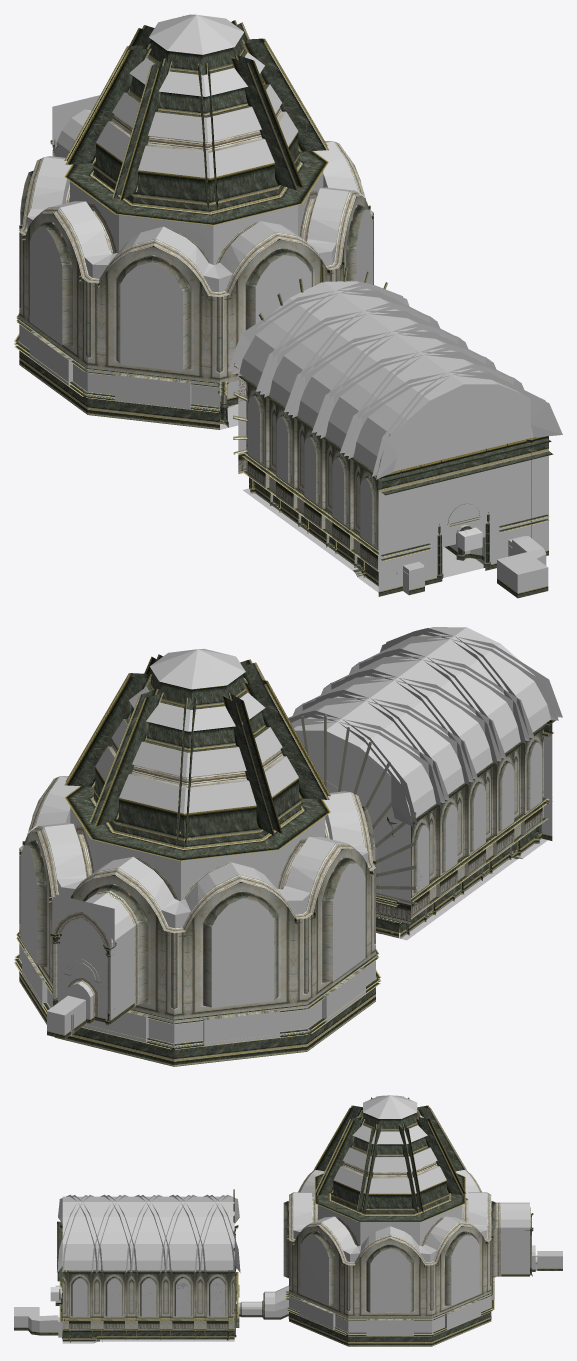
File: estructuraAux2.gltf
3 renders of one model, top to bottom at view 1: azimuth 30°, elevation 25°; view 2: azimuth 150°, elevation 25°; view 3: azimuth 270°, elevation 25°, orthographic. The views are drawn at different scales.
Visible parts, largest first — view 1: n3b6_n3b6.001, n9b1_n9b1.001, n5b20_n5b20.001, n7b18_n7b18.001, n23b19_n23b19.001, n6b9_n6b9.001, n24b22_n24b22.001, n8b7_n8b7.001, n10b23_n10b23.001; view 2: n3b6_n3b6.001, n9b1_n9b1.001, n5b20_n5b20.001, n7b18_n7b18.001, n23b19_n23b19.001, n6b9_n6b9.001, n24b22_n24b22.001, n8b7_n8b7.001, n10b23_n10b23.001; view 3: n3b6_n3b6.001, n9b1_n9b1.001, n5b20_n5b20.001, n7b18_n7b18.001, n23b19_n23b19.001, n6b9_n6b9.001, n24b22_n24b22.001, n8b7_n8b7.001, n10b23_n10b23.001.
Part boxes in pixels (<box>): n3b6_n3b6.001: <box>19,43,562,592</box>; n9b1_n9b1.001: <box>14,20,553,598</box>; n5b20_n5b20.001: <box>19,155,378,570</box>; n7b18_n7b18.001: <box>29,209,372,371</box>; n23b19_n23b19.001: <box>96,14,297,178</box>; n6b9_n6b9.001: <box>19,107,531,537</box>; n24b22_n24b22.001: <box>248,396,372,544</box>; n8b7_n8b7.001: <box>238,453,377,570</box>; n10b23_n10b23.001: <box>243,488,483,577</box>; n3b6_n3b6.001: <box>19,627,562,1047</box>; n9b1_n9b1.001: <box>14,654,555,1066</box>; n5b20_n5b20.001: <box>19,729,543,1021</box>; n7b18_n7b18.001: <box>20,845,365,1007</box>; n23b19_n23b19.001: <box>95,648,298,813</box>; n6b9_n6b9.001: <box>19,742,375,1017</box>; n24b22_n24b22.001: <box>417,742,542,891</box>; n8b7_n8b7.001: <box>376,807,542,924</box>; n10b23_n10b23.001: <box>382,858,517,940</box>; n3b6_n3b6.001: <box>14,1115,562,1343</box>; n9b1_n9b1.001: <box>14,1096,562,1346</box>; n5b20_n5b20.001: <box>62,1201,496,1329</box>; n7b18_n7b18.001: <box>300,1235,479,1313</box>; n23b19_n23b19.001: <box>333,1095,446,1193</box>; n6b9_n6b9.001: <box>228,1161,531,1328</box>; n24b22_n24b22.001: <box>72,1278,224,1316</box>; n8b7_n8b7.001: <box>69,1321,228,1330</box>; n10b23_n10b23.001: <box>100,1339,234,1341</box>.
Size of the model in its own units: 7.43 by 8.62 by 19.15.
